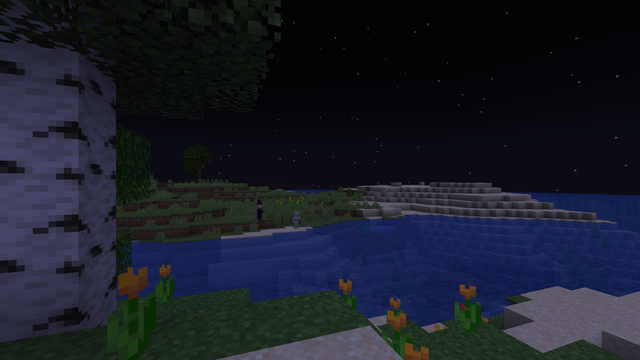sorcieres: (256, 203, 262, 221)
squelettes: (293, 211, 299, 229)
